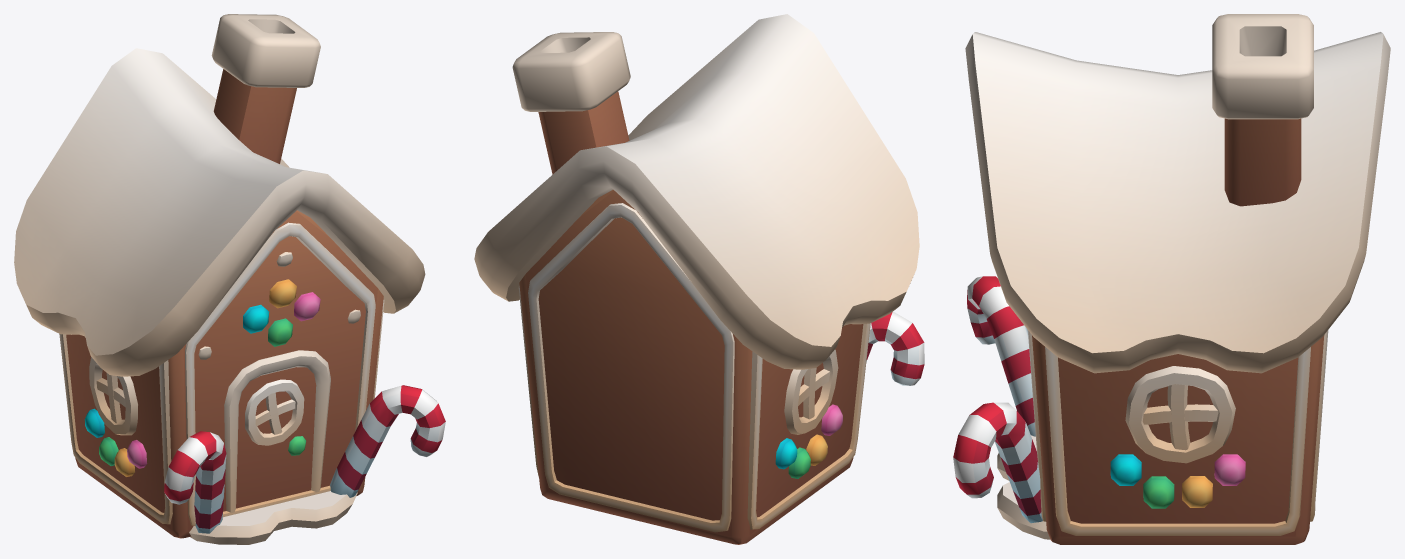
The model's file is gingerbread_house.obj.
3 renders of one model, left to right at view 1: azimuth 30°, elevation 25°; view 2: azimuth 150°, elevation 25°; view 3: azimuth 270°, elevation 25°, orthographic. The views are drawn at different scales.
Visible parts, largest first — view 1: gingerbread_house; view 2: gingerbread_house; view 3: gingerbread_house.
Boxes of the visible parts, <box> form: gingerbread_house: <box>14,14,445,544</box>; gingerbread_house: <box>474,14,924,544</box>; gingerbread_house: <box>953,14,1390,544</box>.
Bounding box in the file's own units: 1.15 × 1.44 × 1.11.
1 material, 1 textured.
